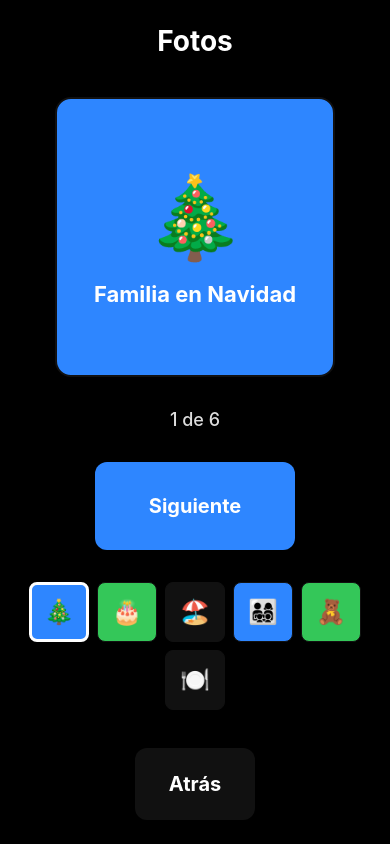
Test case: PhotosScreen › cycles through photos with Next button
Expected: the text "Familia en Navidad" is shown, [78,280,312,306]
Expected: the text "1 de 6" is shown, [170,408,220,430]
Click the button "Siguiente" at (195, 506), box [95,462,295,550]
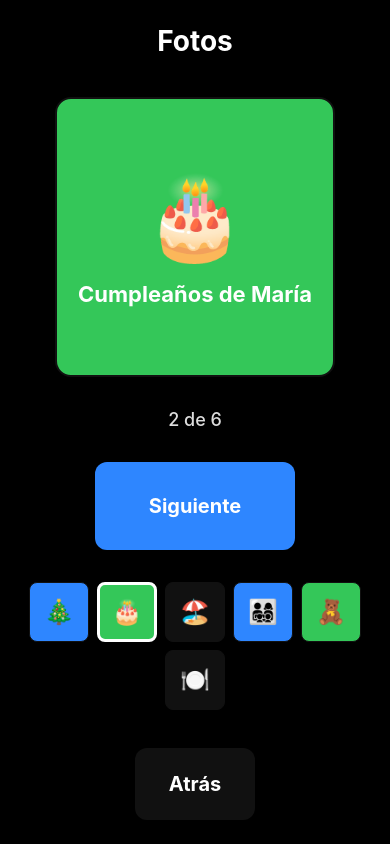
Result: the text "Cumpleaños de María" is shown at [62,280,328,306]
Result: the text "2 de 6" is shown at [168,408,222,430]
